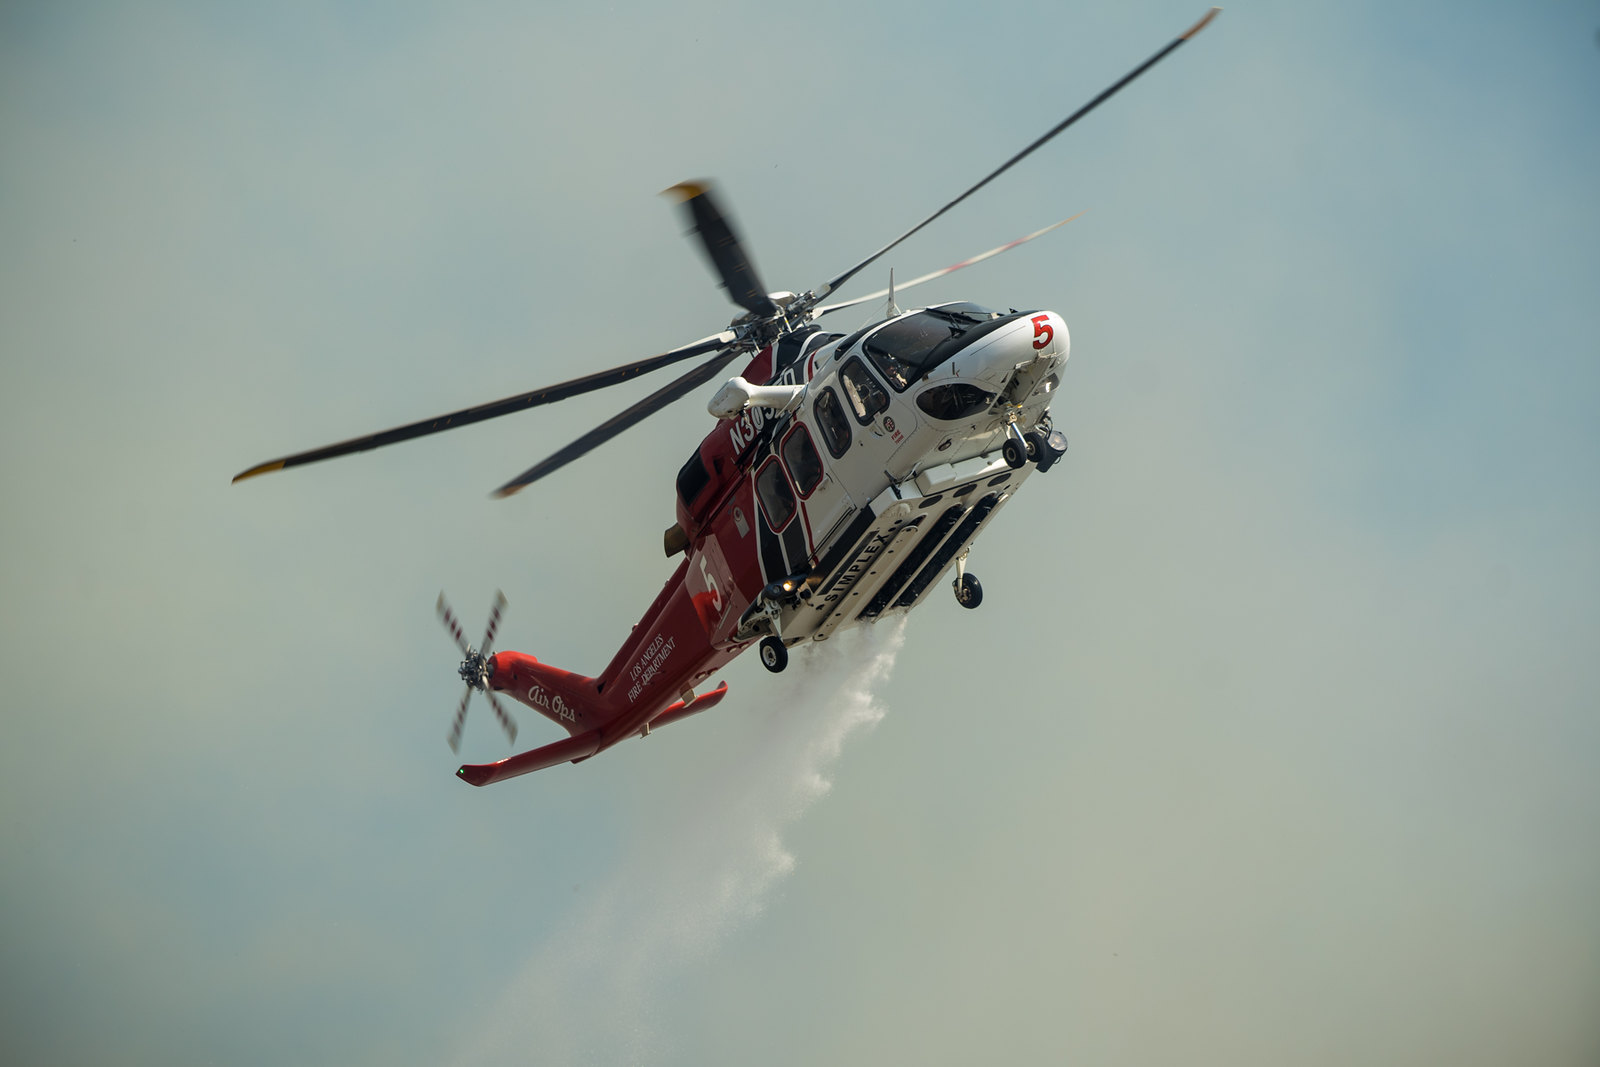Aeronef_de_service: (212, 1, 1248, 799)
